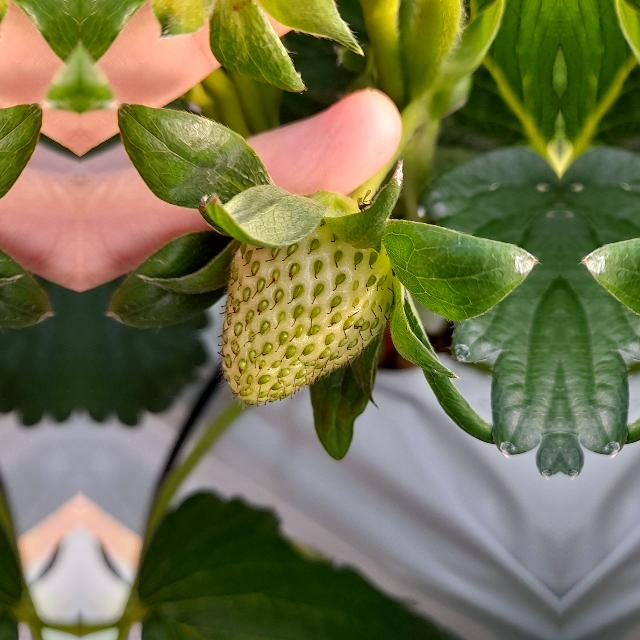Health_25: (215, 196, 395, 410)
